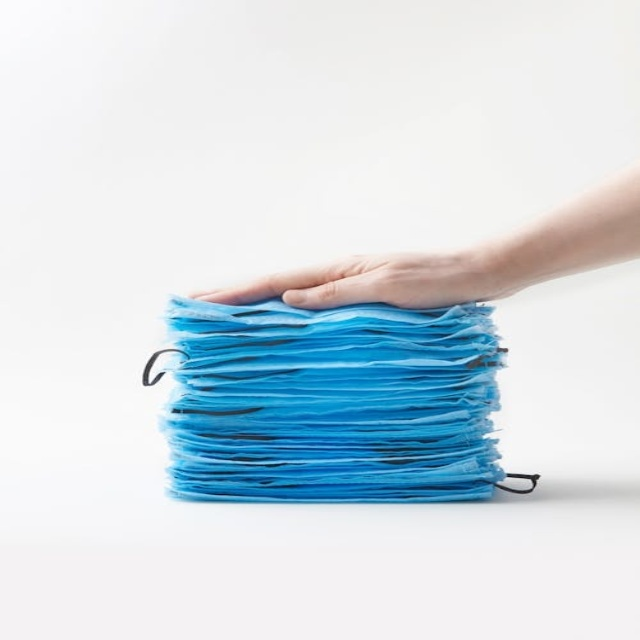Sin_guantes: (177, 228, 520, 314)
